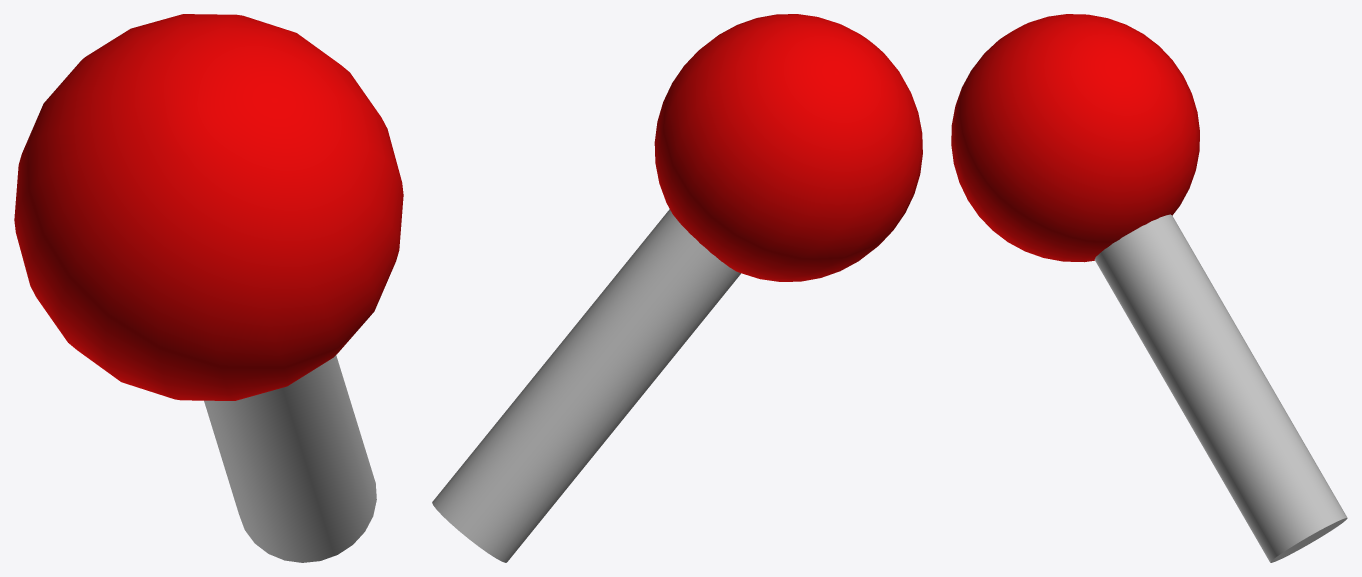
The model's file is switch8.fbx.
3 renders of one model, left to right at view 1: azimuth 30°, elevation 25°; view 2: azimuth 150°, elevation 25°; view 3: azimuth 270°, elevation 25°, orthographic. The views are drawn at different scales.
Parts seen in each view (by area): view 1: polySurface1; view 2: polySurface1; view 3: polySurface1.
Part boxes in pixels (bbox=[...]): polySurface1: bbox=[14, 14, 403, 562]; polySurface1: bbox=[432, 14, 922, 562]; polySurface1: bbox=[951, 14, 1347, 562].
Bounding box in the file's own units: 2.79 × 3.75 × 2.97.
